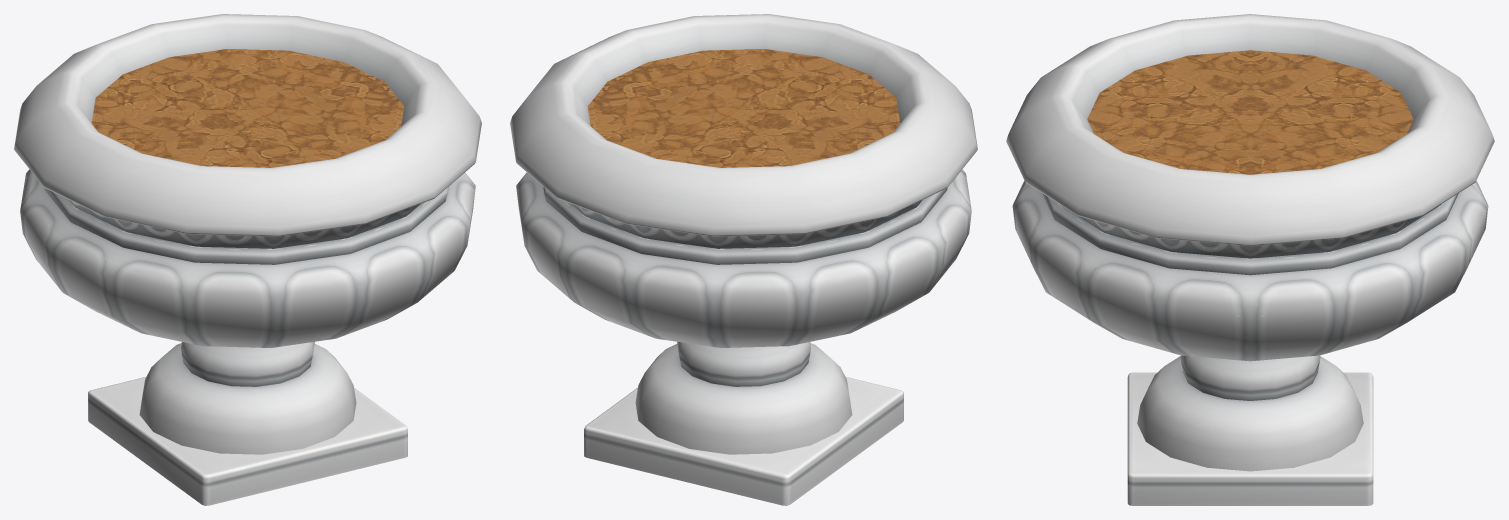
File: ParkFlowerPot02.FBX
3 renders of one model, left to right at view 1: azimuth 30°, elevation 25°; view 2: azimuth 150°, elevation 25°; view 3: azimuth 270°, elevation 25°, orthographic. The views are drawn at different scales.
Parts seen in each view (by area): view 1: ParkFlowerPot02; view 2: ParkFlowerPot02; view 3: ParkFlowerPot02.
Part boxes in pixels (x1=…): ParkFlowerPot02: x1=14, y1=14, x2=481, y2=505; ParkFlowerPot02: x1=510, y1=14, x2=977, y2=505; ParkFlowerPot02: x1=1006, y1=14, x2=1494, y2=505.
Size of what is drawn, in the model's own units: 0.9844 by 0.7953 by 0.9844.
